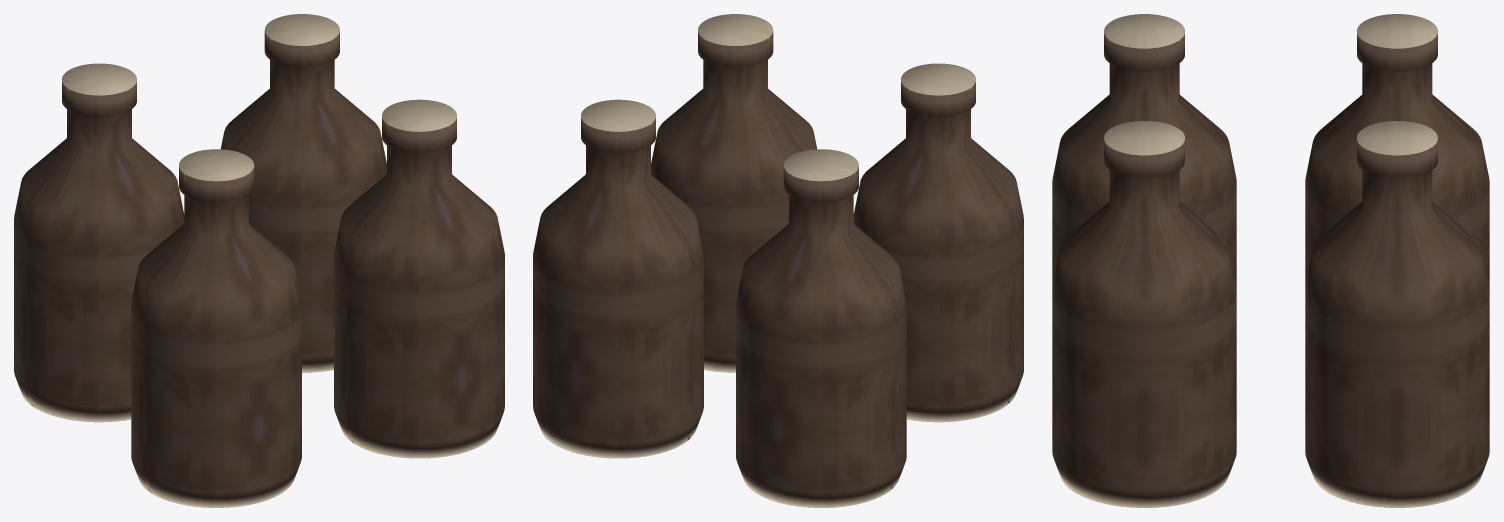
File: ORI-56.glb
3 views of the same model, side by side, from view 1: azimuth 30°, elevation 25°; view 2: azimuth 150°, elevation 25°; view 3: azimuth 270°, elevation 25° (orthographic). The views are drawn at different scales.
Bounding box in the file's own units: 0.166 × 0.14 × 0.166.
4 materials, 4 textured.
